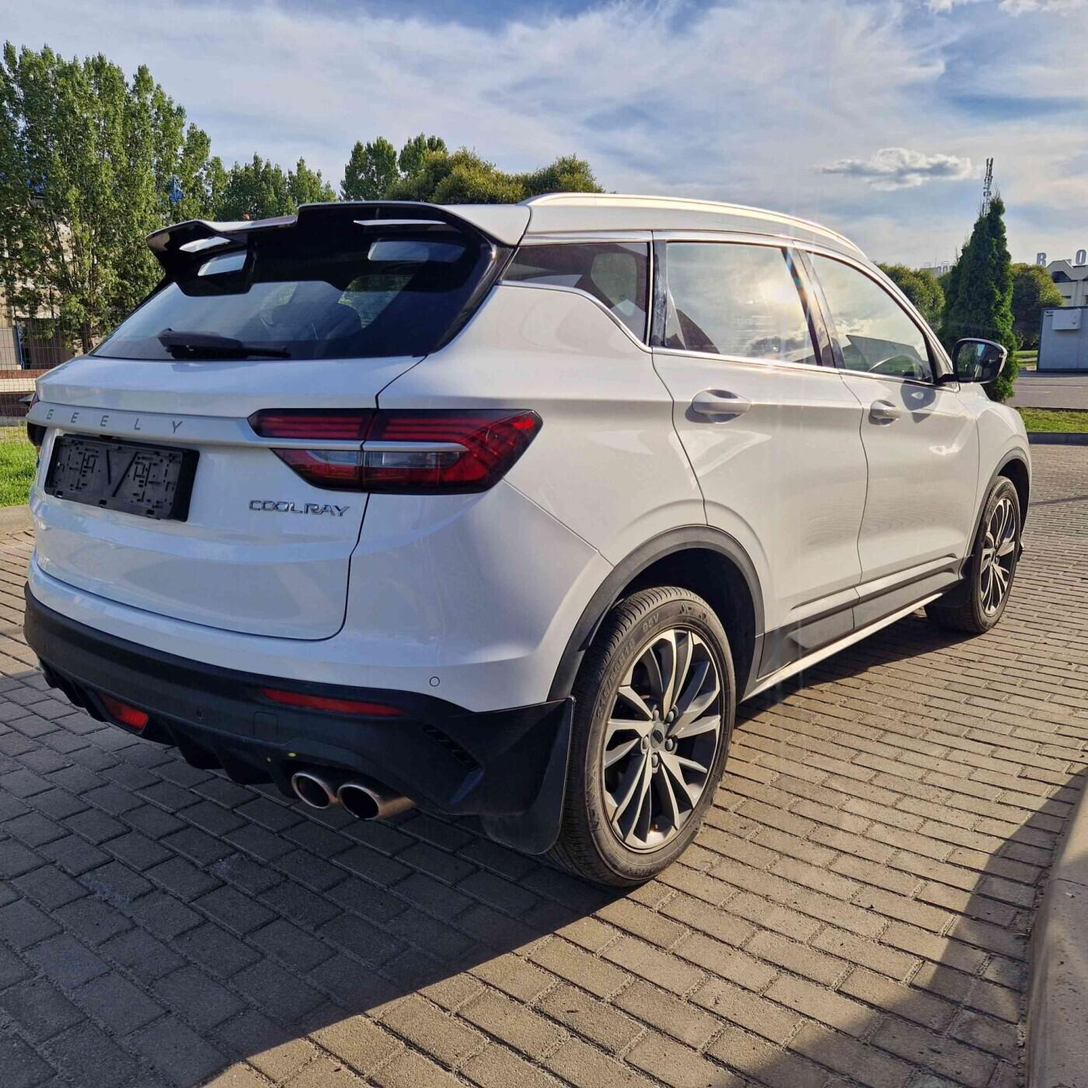Coolray_2019-2023: (23, 180, 1034, 898)
